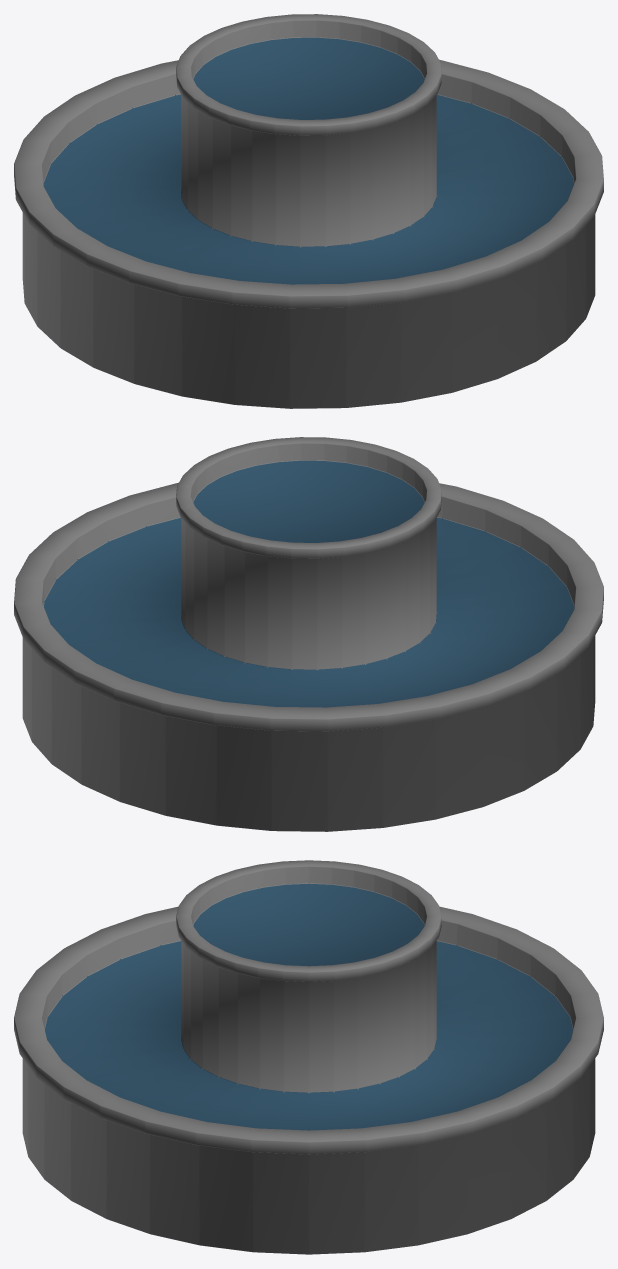
Rendered from fountain.fbx.
3 views of the same model, one above another, from view 1: azimuth 30°, elevation 25°; view 2: azimuth 150°, elevation 25°; view 3: azimuth 270°, elevation 25° (orthographic).
Visible parts, largest first — view 1: fountain; view 2: fountain; view 3: fountain.
Part boxes in pixels (x1,y1,x2,y2): fountain: (14,14,603,408); fountain: (14,437,603,831); fountain: (14,860,603,1254).
Size of the model in its own units: 309 by 126 by 309.
